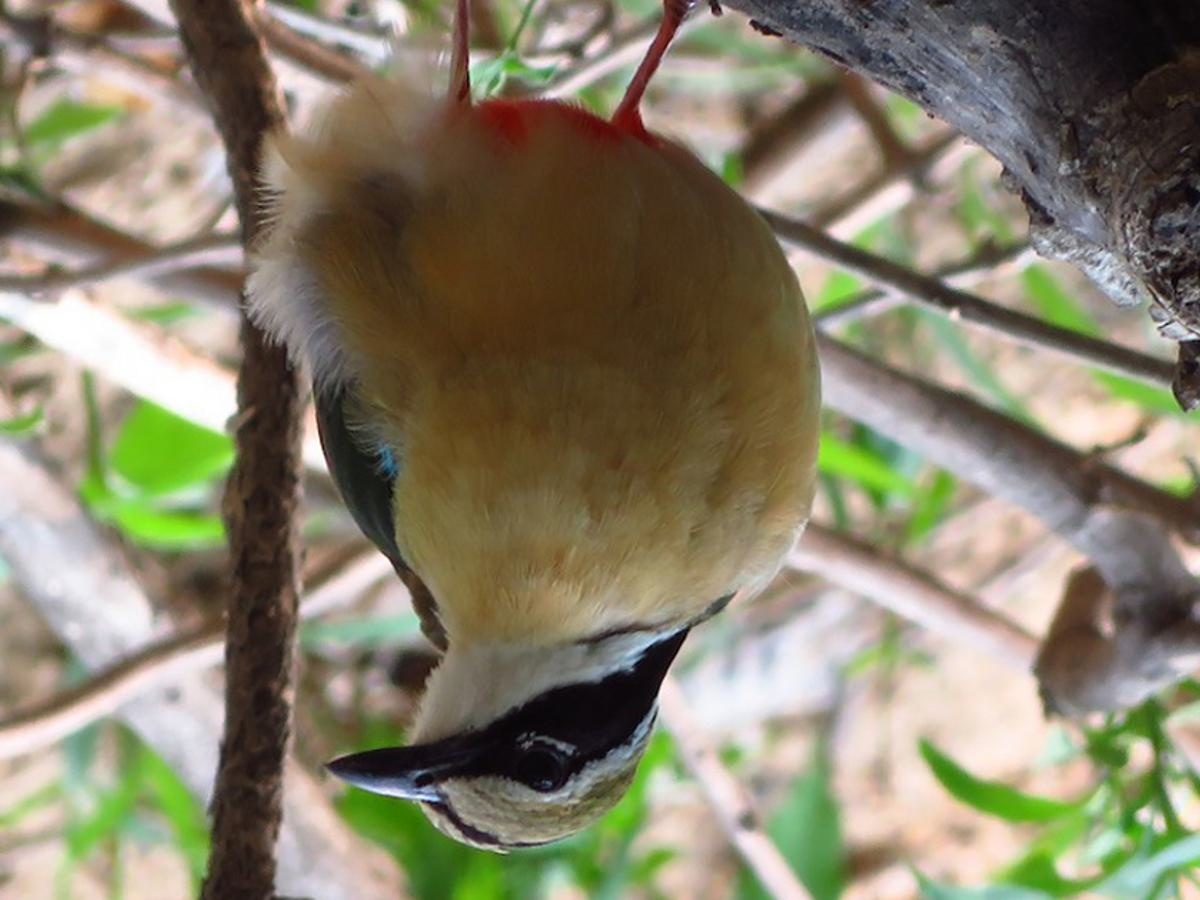pitta: (284, 1, 824, 858)
